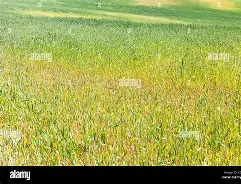crops: (0, 2, 238, 163), (0, 13, 84, 50), (92, 28, 161, 65), (163, 22, 241, 45), (2, 0, 61, 17)
